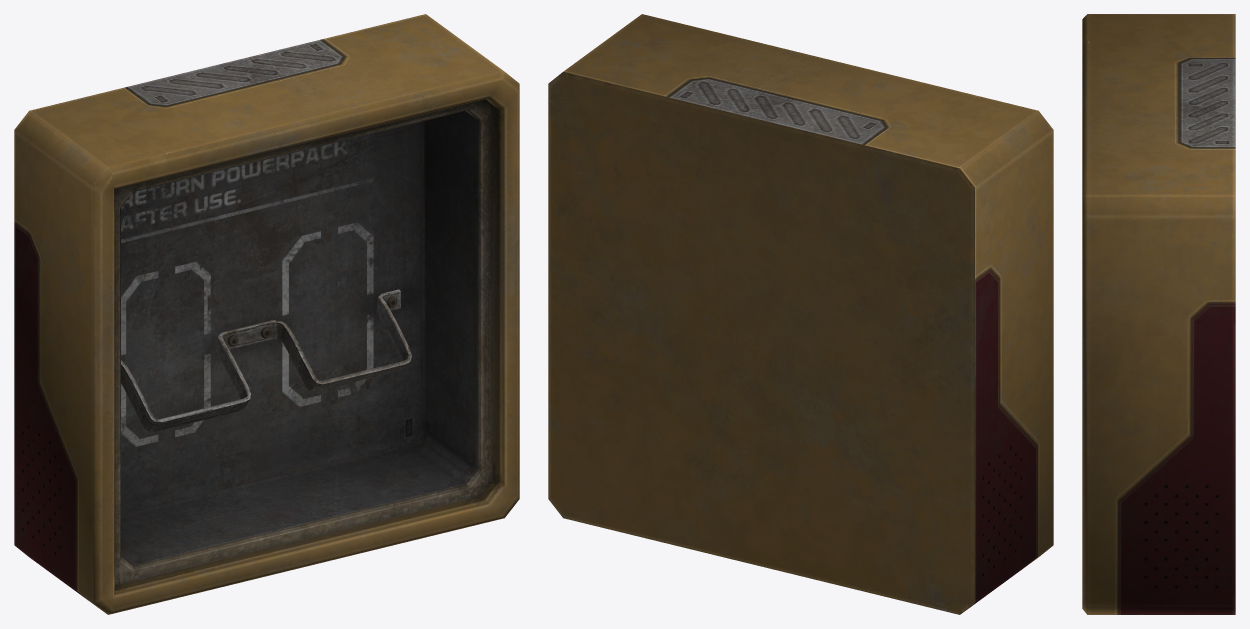
The model's file is cabinet_powerpack_battery_storage.dae.
The picture shows the model from 3 angles, left to right: view 1: azimuth 30°, elevation 25°; view 2: azimuth 150°, elevation 25°; view 3: azimuth 270°, elevation 25°; orthographic projection. The views are drawn at different scales.
Parts seen in each view (by area): view 1: polySurface9; view 2: polySurface9; view 3: polySurface9.
Part boxes in pixels (<box>): polySurface9: <box>14,14,519,614</box>; polySurface9: <box>548,14,1053,614</box>; polySurface9: <box>1082,14,1235,614</box>.
Size of the model in its own units: 0.452 by 0.452 by 0.1496.
1 material, 1 textured.
